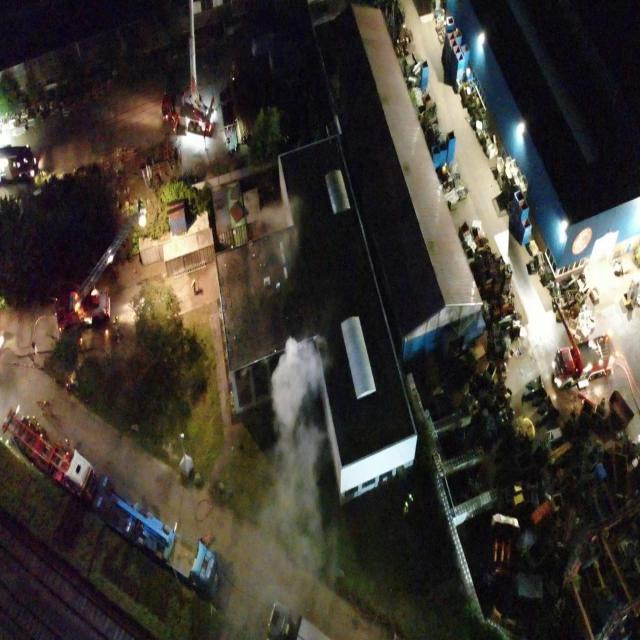Smoke: (223, 333, 335, 640), (260, 193, 303, 272)
